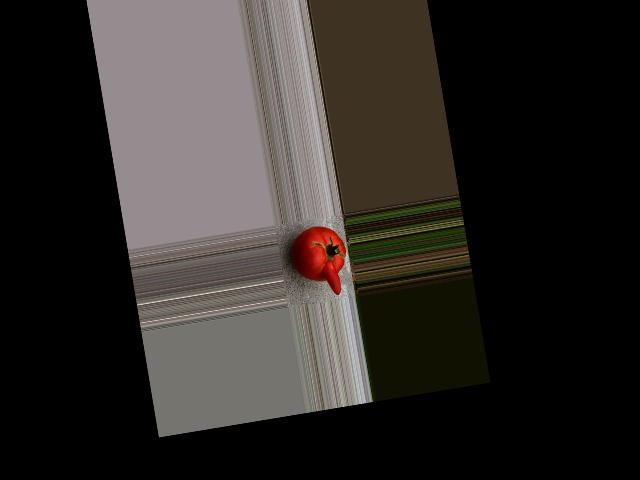tomato: (288, 221, 349, 285)
